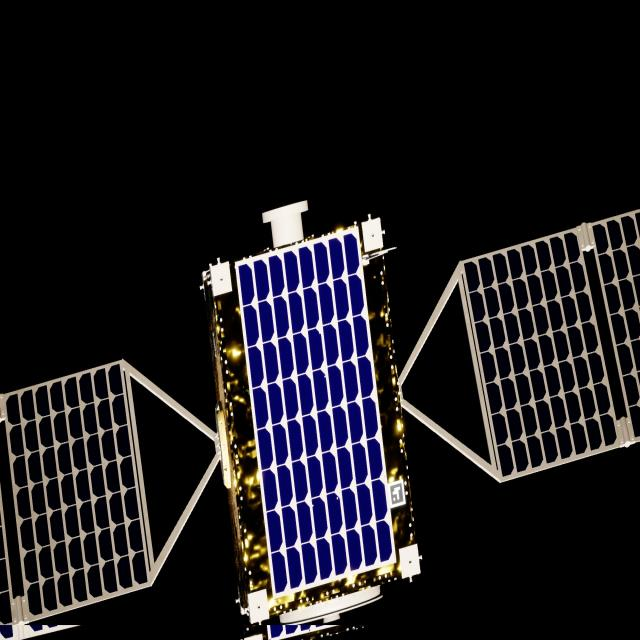medium_debris: (0, 201, 640, 640)
